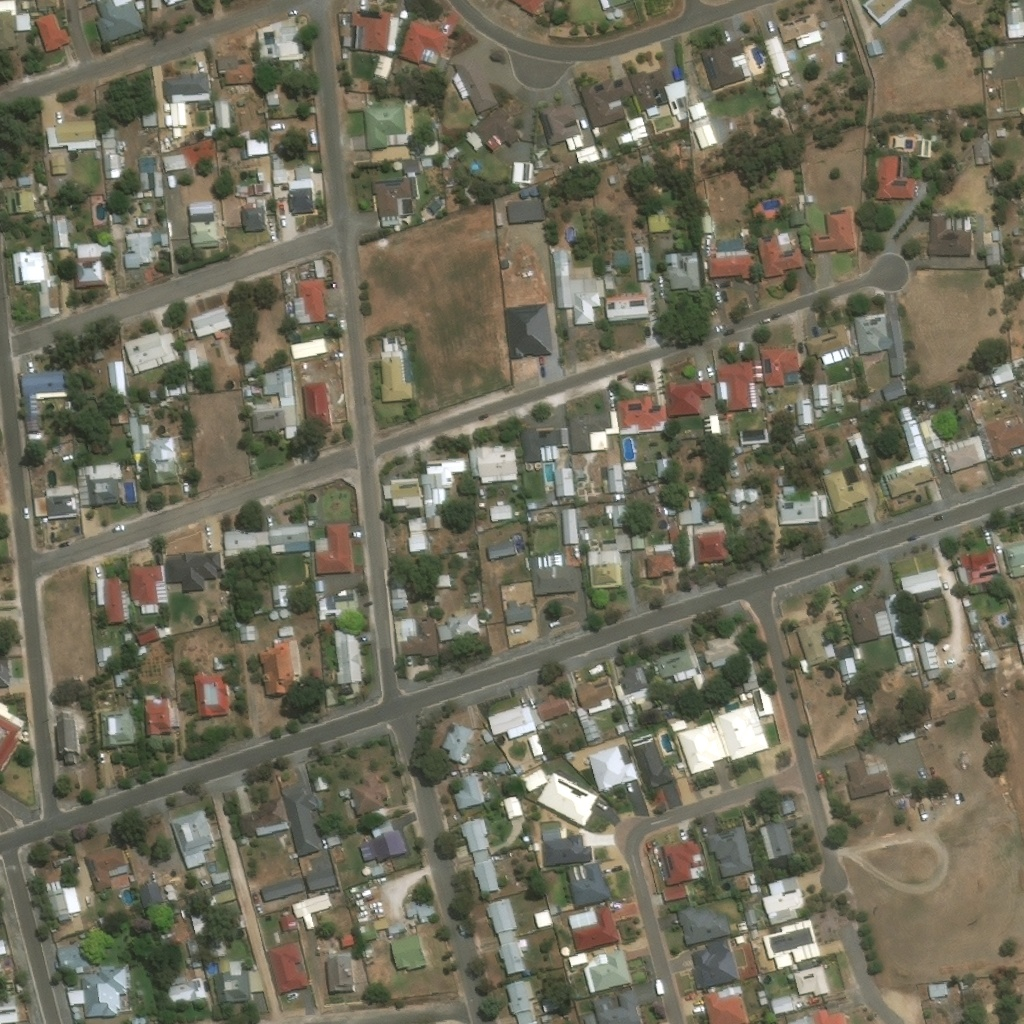0 no-damage: (550, 248, 603, 324), (536, 771, 598, 826), (17, 370, 67, 434), (712, 705, 767, 763), (280, 784, 319, 855), (579, 76, 633, 127), (452, 51, 496, 112), (676, 722, 725, 775), (762, 918, 820, 962), (704, 825, 753, 877), (504, 303, 549, 359), (698, 38, 745, 91), (121, 330, 175, 373), (80, 966, 126, 1016), (587, 745, 637, 791), (691, 939, 736, 989), (396, 19, 447, 62), (165, 551, 219, 590), (755, 234, 801, 279), (570, 907, 617, 951), (676, 906, 729, 945), (472, 104, 520, 146), (820, 470, 868, 512), (632, 741, 673, 790), (259, 641, 295, 696), (810, 206, 853, 252), (83, 845, 125, 892), (237, 795, 287, 834), (363, 103, 406, 148), (658, 837, 698, 885), (977, 417, 1023, 458), (760, 878, 801, 924), (776, 486, 825, 524), (266, 944, 303, 994), (716, 360, 753, 410), (568, 410, 611, 453), (170, 812, 212, 856), (537, 100, 579, 144), (844, 595, 884, 641), (315, 522, 351, 573), (617, 394, 666, 431), (350, 8, 392, 51), (333, 627, 362, 689), (874, 154, 913, 200), (567, 862, 606, 907), (843, 759, 888, 798), (486, 705, 537, 739), (588, 950, 629, 992), (926, 216, 969, 256), (664, 379, 710, 416), (942, 434, 986, 472), (95, 574, 129, 623), (884, 464, 933, 498), (591, 989, 640, 1023), (777, 12, 823, 48), (957, 546, 998, 586), (372, 175, 412, 215), (760, 347, 799, 388), (193, 675, 229, 719), (575, 675, 614, 715), (804, 323, 849, 357), (476, 444, 516, 482), (255, 27, 301, 60), (521, 428, 567, 461), (629, 68, 666, 109), (357, 829, 404, 861), (883, 595, 911, 648), (853, 314, 891, 353), (190, 304, 234, 337), (796, 621, 829, 665), (379, 355, 411, 400), (701, 991, 746, 1023), (541, 835, 589, 865), (291, 893, 330, 929), (401, 616, 437, 655), (32, 12, 67, 52), (163, 71, 208, 102), (435, 611, 480, 642), (350, 772, 384, 813), (758, 819, 792, 860), (389, 933, 426, 970), (691, 523, 727, 561), (470, 848, 500, 893), (504, 980, 535, 1023), (97, 710, 133, 747), (296, 278, 326, 322), (438, 722, 471, 760), (250, 405, 297, 431), (129, 564, 162, 601), (701, 634, 738, 667), (0, 715, 20, 775), (589, 410, 618, 451), (223, 529, 267, 556), (452, 772, 484, 809), (669, 252, 700, 290), (46, 127, 95, 151), (532, 565, 574, 593), (324, 952, 354, 991), (603, 293, 646, 320), (10, 250, 44, 284), (486, 896, 517, 933), (128, 404, 151, 453), (613, 115, 648, 147), (793, 965, 828, 997), (655, 648, 692, 678), (900, 567, 941, 594), (269, 523, 307, 552), (426, 458, 464, 487), (705, 256, 752, 279), (899, 419, 926, 459), (583, 953, 609, 993), (122, 231, 150, 268), (885, 321, 904, 375), (261, 877, 303, 901), (261, 365, 292, 397), (71, 257, 104, 287), (420, 473, 443, 516), (762, 36, 788, 74), (535, 692, 568, 721), (303, 387, 331, 421), (289, 335, 328, 359), (619, 663, 648, 695), (217, 972, 248, 1001), (390, 478, 419, 508), (461, 819, 488, 851), (497, 942, 524, 974), (56, 119, 95, 141), (145, 700, 170, 734), (324, 682, 358, 707), (45, 492, 76, 519), (43, 890, 69, 922), (588, 562, 620, 588), (136, 882, 164, 911), (189, 219, 220, 245), (56, 946, 87, 972), (1000, 543, 1023, 578), (56, 712, 76, 752), (220, 193, 244, 226), (134, 624, 169, 646), (4, 188, 32, 215), (87, 477, 115, 504), (517, 766, 547, 791), (402, 899, 433, 923), (768, 995, 805, 1015), (918, 418, 940, 451), (304, 866, 334, 890), (287, 186, 313, 213), (676, 497, 701, 525), (504, 599, 533, 623), (223, 61, 254, 83), (645, 552, 672, 577), (843, 433, 867, 461), (105, 360, 124, 395), (551, 467, 573, 497), (76, 464, 120, 479), (751, 686, 772, 717), (146, 436, 173, 460), (559, 508, 577, 544), (986, 361, 1013, 385), (1002, 8, 1023, 38), (633, 244, 650, 281), (818, 346, 848, 366), (165, 982, 193, 1003), (917, 640, 937, 669), (501, 792, 523, 818), (61, 885, 81, 913), (449, 71, 469, 99), (393, 617, 416, 641), (894, 457, 928, 473), (0, 11, 15, 47), (183, 940, 201, 970), (568, 910, 596, 929), (0, 704, 23, 727), (736, 428, 767, 445), (574, 143, 599, 164), (577, 716, 598, 741), (212, 98, 230, 127), (605, 464, 623, 493), (50, 221, 70, 247), (486, 539, 513, 558), (663, 79, 686, 101), (488, 500, 512, 521), (659, 883, 687, 901), (373, 53, 393, 78), (837, 655, 857, 680), (188, 201, 214, 220), (154, 564, 167, 602), (914, 135, 936, 157), (288, 166, 311, 187), (255, 820, 287, 835), (812, 1009, 846, 1023), (101, 152, 119, 178), (293, 297, 311, 323), (385, 16, 398, 52), (318, 599, 340, 620), (511, 160, 532, 182), (242, 206, 265, 226), (647, 211, 670, 231), (463, 128, 483, 151), (809, 383, 828, 407), (891, 724, 915, 743), (0, 995, 16, 1023), (586, 550, 614, 566), (354, 921, 376, 941), (270, 583, 289, 606), (880, 381, 901, 401), (792, 403, 811, 425), (874, 610, 890, 636), (389, 586, 407, 609), (611, 503, 627, 528), (217, 54, 238, 73), (245, 137, 267, 155), (982, 243, 1000, 265), (408, 530, 426, 552), (702, 414, 720, 436), (162, 153, 185, 170), (270, 159, 287, 182), (526, 733, 543, 756), (624, 687, 647, 704), (973, 137, 988, 163), (169, 101, 185, 125), (672, 666, 696, 682), (276, 914, 296, 933), (687, 101, 706, 121), (782, 1010, 811, 1023), (76, 474, 88, 505), (182, 851, 205, 867), (828, 386, 842, 412), (483, 132, 502, 151), (654, 457, 671, 478), (189, 911, 205, 933), (741, 902, 756, 925), (629, 733, 652, 748), (365, 859, 385, 876), (0, 658, 12, 686), (613, 683, 627, 707), (966, 609, 980, 633), (181, 348, 196, 370), (76, 243, 101, 256), (715, 986, 740, 999), (58, 746, 76, 764), (864, 39, 882, 57), (65, 988, 84, 1005), (894, 404, 911, 423), (495, 929, 514, 946), (565, 864, 584, 881), (208, 936, 223, 957), (162, 383, 184, 397), (565, 133, 583, 150), (778, 797, 796, 814), (534, 909, 550, 928), (927, 983, 947, 998), (171, 93, 208, 101), (247, 970, 261, 991), (894, 647, 912, 663), (191, 977, 204, 999), (566, 952, 585, 967), (209, 870, 229, 884), (153, 171, 164, 196), (49, 156, 65, 173), (140, 108, 156, 125), (324, 831, 341, 847), (788, 209, 805, 225), (402, 159, 419, 175), (433, 573, 451, 588), (263, 87, 277, 106), (979, 48, 992, 68), (386, 132, 406, 145), (521, 979, 534, 999), (107, 863, 127, 876), (51, 855, 71, 868), (137, 156, 154, 171), (139, 171, 154, 188), (421, 139, 438, 154), (981, 652, 996, 669), (333, 600, 356, 611), (100, 137, 114, 155), (239, 624, 253, 642), (753, 988, 767, 1006), (668, 719, 687, 732), (542, 828, 564, 839), (14, 14, 29, 30), (241, 359, 256, 375), (312, 775, 327, 791), (728, 487, 743, 503), (539, 446, 554, 462), (955, 979, 970, 995), (338, 933, 355, 947), (698, 215, 711, 233), (713, 381, 725, 400), (95, 647, 110, 662), (425, 515, 440, 530), (629, 532, 642, 549), (668, 98, 681, 115), (283, 292, 294, 312), (795, 959, 813, 971), (743, 487, 756, 503), (384, 924, 401, 936), (371, 918, 388, 930), (514, 939, 525, 957), (377, 819, 393, 831), (477, 817, 489, 833), (491, 763, 507, 775), (576, 1013, 595, 1023), (191, 863, 204, 877), (643, 105, 658, 117), (406, 518, 421, 530), (730, 54, 745, 66), (865, 764, 882, 774), (574, 707, 587, 720), (791, 434, 805, 446), (742, 680, 757, 691), (15, 176, 31, 186), (602, 274, 612, 290), (314, 539, 327, 551), (211, 656, 223, 669), (447, 145, 459, 158), (690, 866, 703, 878), (99, 126, 113, 137), (283, 426, 297, 437), (667, 528, 678, 542), (823, 644, 834, 658), (139, 604, 156, 613), (278, 397, 293, 407), (621, 461, 636, 471), (113, 673, 123, 688), (733, 934, 745, 946), (652, 543, 670, 551), (420, 156, 433, 167), (480, 730, 491, 743), (798, 659, 808, 673), (603, 505, 612, 520), (229, 960, 240, 972), (598, 146, 609, 158), (670, 67, 681, 79), (692, 674, 703, 686), (278, 626, 291, 636), (64, 923, 77, 933), (278, 607, 289, 618), (122, 632, 132, 644), (382, 483, 390, 498), (134, 458, 142, 473), (254, 182, 264, 194), (158, 232, 167, 245), (112, 213, 123, 223), (243, 226, 265, 231), (644, 485, 655, 495), (550, 554, 560, 565), (614, 724, 624, 735), (622, 704, 632, 715), (171, 126, 180, 138), (136, 215, 146, 225), (238, 148, 248, 158), (735, 921, 745, 931), (559, 946, 569, 956), (468, 592, 478, 602), (134, 647, 145, 656), (736, 692, 745, 703), (166, 174, 174, 186), (852, 647, 860, 659), (861, 458, 870, 468), (893, 138, 903, 147), (990, 229, 998, 240), (577, 520, 588, 528), (313, 588, 320, 600), (727, 459, 736, 468), (923, 400, 932, 409), (267, 611, 277, 619), (606, 174, 614, 184), (247, 184, 255, 194), (777, 79, 785, 88), (534, 159, 542, 168), (364, 948, 372, 957), (564, 751, 573, 759), (540, 1014, 548, 1023), (748, 885, 757, 893), (399, 9, 408, 17), (800, 396, 810, 403), (797, 196, 802, 210), (747, 874, 754, 884), (496, 735, 504, 743), (853, 713, 861, 721), (749, 444, 759, 450), (455, 552, 465, 558), (135, 191, 143, 198), (580, 533, 587, 541), (813, 410, 820, 418), (804, 195, 811, 203), (730, 507, 737, 515), (233, 622, 241, 629), (71, 1012, 79, 1019), (137, 1016, 145, 1023), (572, 546, 577, 557), (144, 694, 153, 700), (70, 1005, 77, 1012), (667, 509, 675, 515), (995, 130, 1003, 136), (129, 1017, 137, 1023), (120, 998, 125, 1007), (144, 191, 151, 197), (613, 494, 619, 501), (729, 470, 736, 476), (858, 708, 866, 713), (244, 389, 250, 395), (526, 504, 535, 508), (131, 698, 137, 704), (575, 474, 582, 479), (687, 490, 692, 497), (744, 693, 751, 698), (775, 479, 780, 485), (540, 755, 545, 760), (848, 419, 853, 423), (550, 501, 555, 505)
4 un-classified: (165, 867, 176, 882), (799, 268, 810, 282), (720, 230, 735, 240), (517, 251, 526, 266), (527, 216, 537, 227), (157, 873, 166, 885), (177, 1009, 190, 1017), (212, 537, 219, 550), (503, 203, 513, 212), (176, 871, 185, 880), (825, 31, 832, 42), (0, 938, 5, 953), (165, 0, 177, 4), (802, 387, 807, 395), (986, 180, 991, 187)
